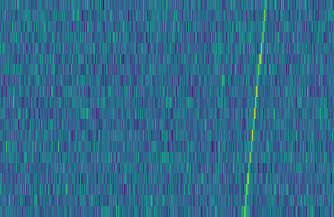signal: (241, 0, 273, 217)
